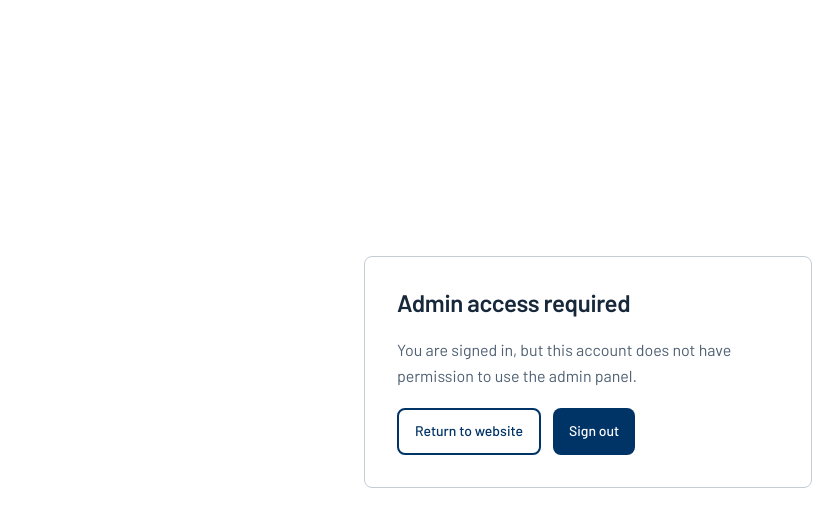
admin access screens › signs out from the denial screen and returns to the public site
The width and height of the screenshot is (829, 505).
Click the button "Sign out" at point(594, 431), box [553,408,635,455]
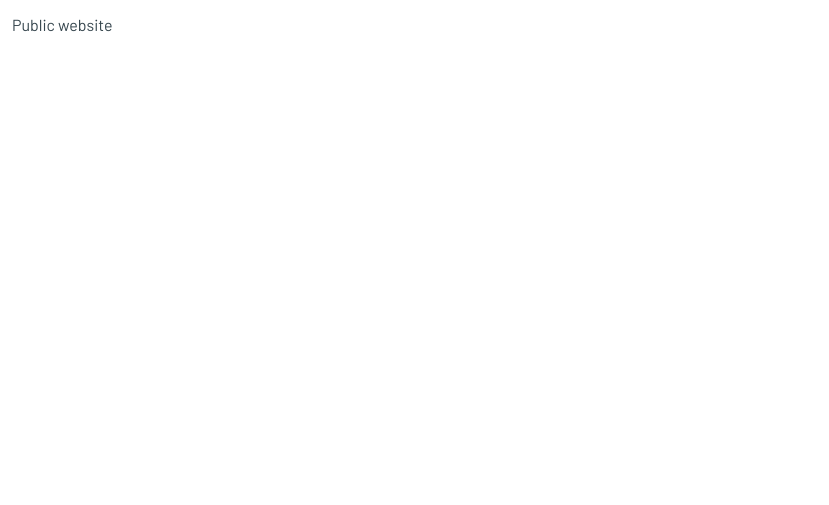
Expected: the text "Public website" is shown, [12,15,112,34]
